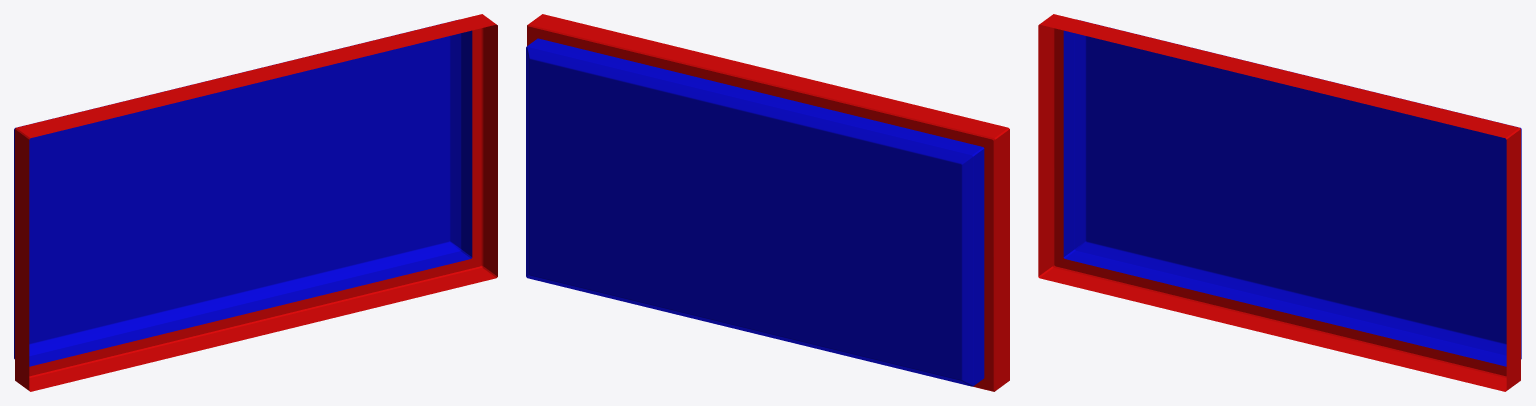
File: FireExit_high.fbx
The picture shows the model from 3 angles, left to right: view 1: azimuth 30°, elevation 25°; view 2: azimuth 150°, elevation 25°; view 3: azimuth 330°, elevation 25°; orthographic projection.
Parts seen in each view (by area): view 1: FireExit_high; view 2: FireExit_high; view 3: FireExit_high.
Part boxes in pixels (x1=…): FireExit_high: x1=14, y1=14, x2=497, y2=391; FireExit_high: x1=526, y1=14, x2=1009, y2=391; FireExit_high: x1=1038, y1=14, x2=1521, y2=391.
Bounding box in the file's own units: 3.61 × 1.87 × 0.4014.
